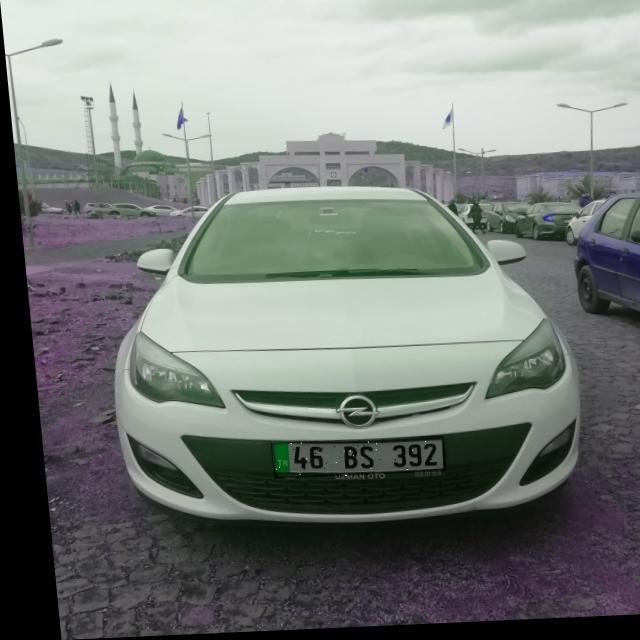license_plate: (261, 439, 437, 481)
